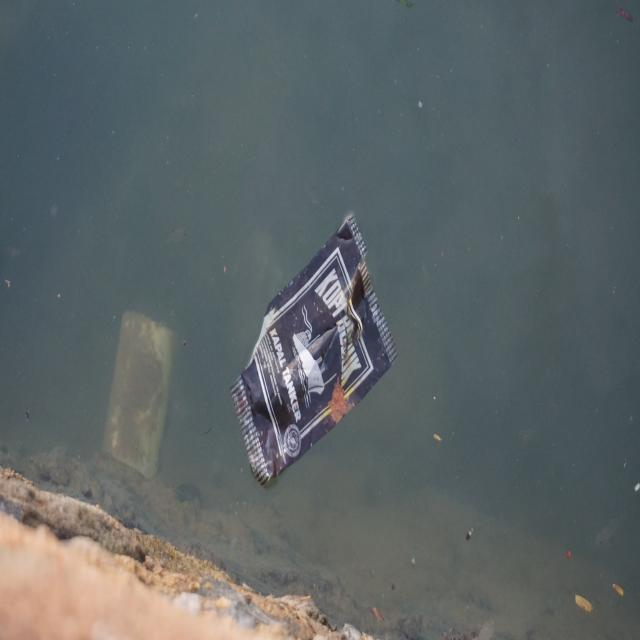Bungkus Minuman: (238, 209, 397, 486)
